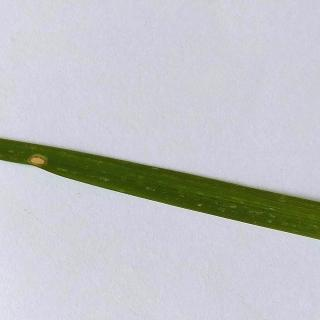Blast: (25, 154, 53, 170)
